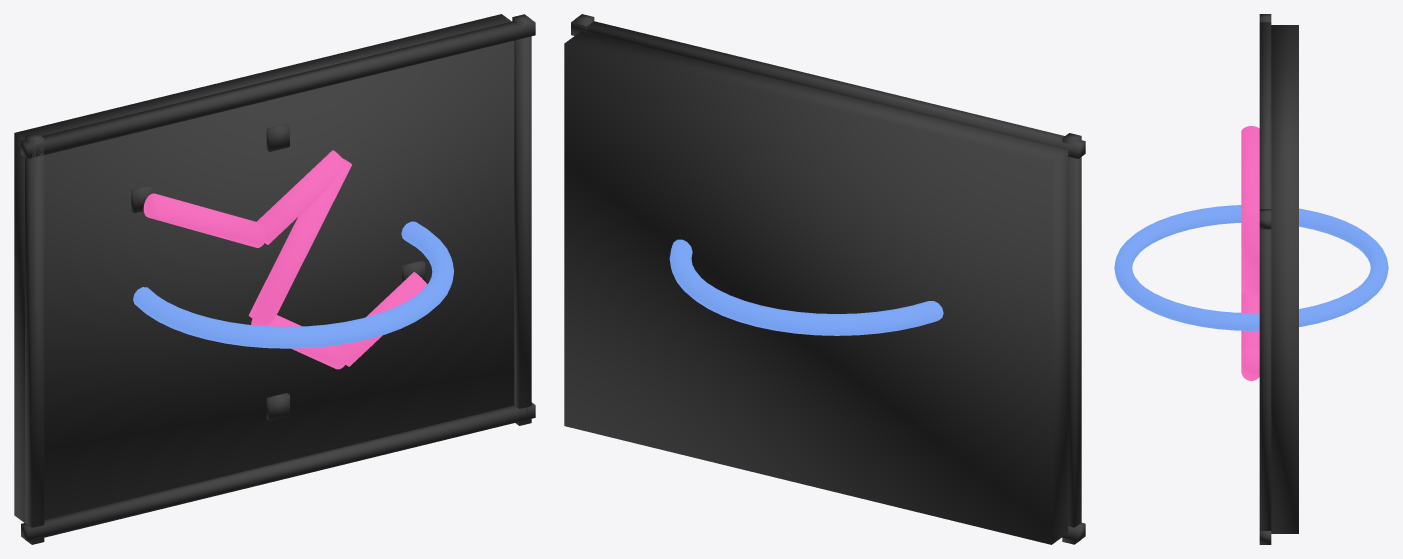
The model's file is Lamp_Neon.glb.
The picture shows the model from 3 angles, left to right: view 1: azimuth 30°, elevation 25°; view 2: azimuth 150°, elevation 25°; view 3: azimuth 270°, elevation 25°; orthographic projection. The views are drawn at different scales.
Visible parts, largest first — view 1: lamp_neon_plate; view 2: lamp_neon_plate; view 3: lamp_neon_plate.
Part boxes in pixels (x1,y1,x2,y2): lamp_neon_plate: [14, 14, 535, 544]; lamp_neon_plate: [564, 14, 1085, 544]; lamp_neon_plate: [1114, 14, 1388, 544].
Size of the model in its own units: 0.375 by 0.285 by 0.214.
